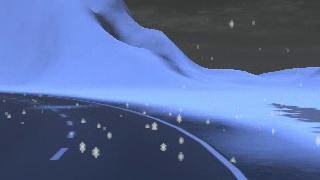Lane: (0, 91, 248, 179)
